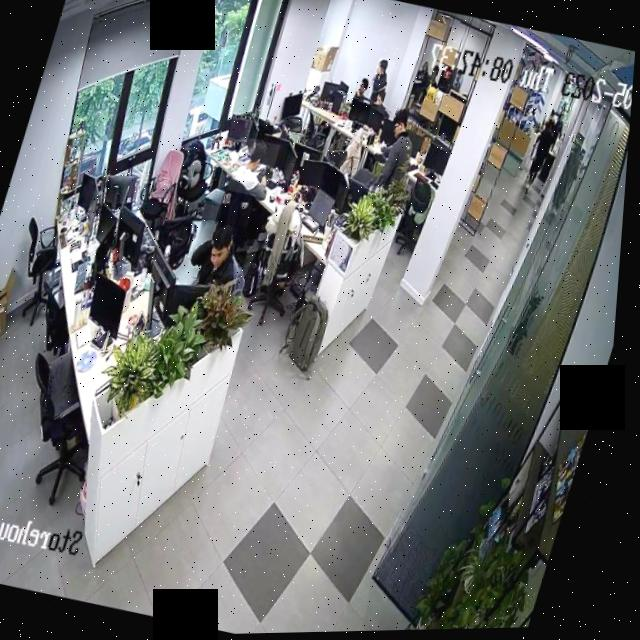person: (365, 105, 428, 200), (186, 218, 259, 295), (229, 137, 283, 200), (367, 59, 396, 106), (352, 77, 375, 105)
